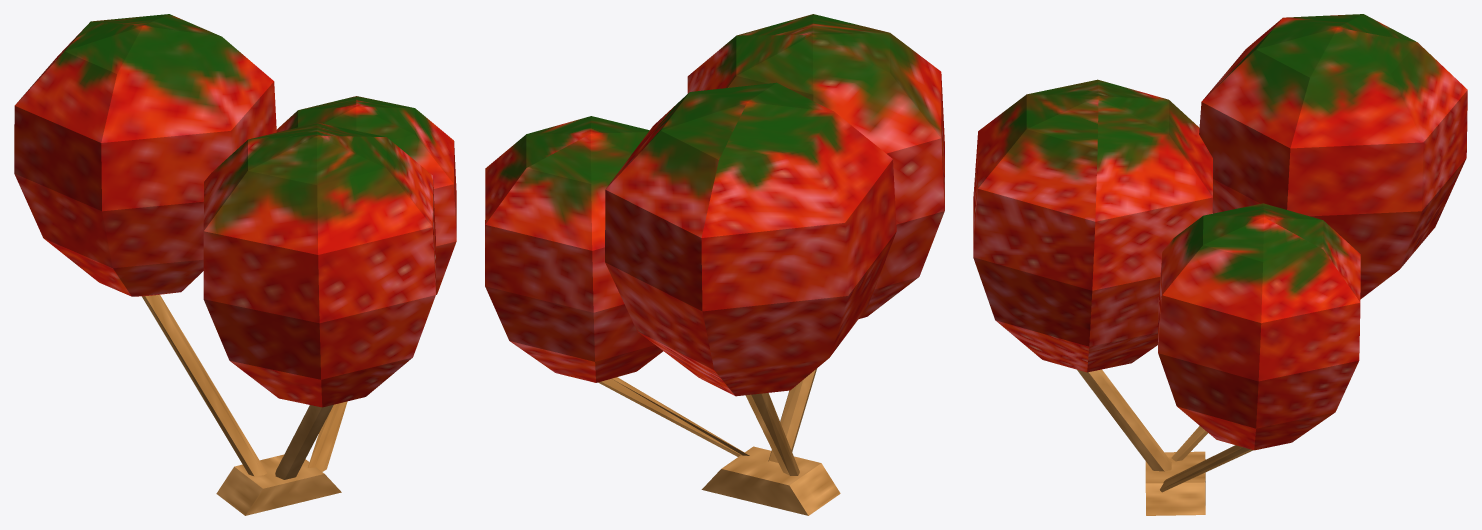
Rendered from strawberry bush.fbx.
The picture shows the model from 3 angles, left to right: view 1: azimuth 30°, elevation 25°; view 2: azimuth 150°, elevation 25°; view 3: azimuth 270°, elevation 25°; orthographic projection. The views are drawn at different scales.
Visible parts, largest first — view 1: pCube2; view 2: pCube2; view 3: pCube2.
Part boxes in pixels (<box>): pCube2: <box>14,14,456,515</box>; pCube2: <box>485,14,944,515</box>; pCube2: <box>973,14,1467,515</box>.
Size of the model in its own units: 1.96 by 2.06 by 2.12.
1 material, 1 textured.
